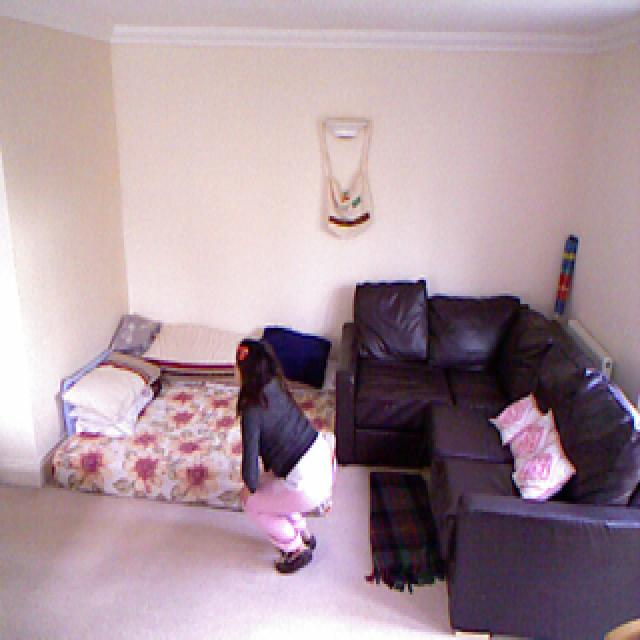bending: (233, 338, 334, 578)
